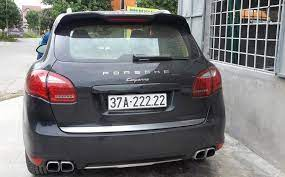Car number plates: (107, 93, 168, 108)
